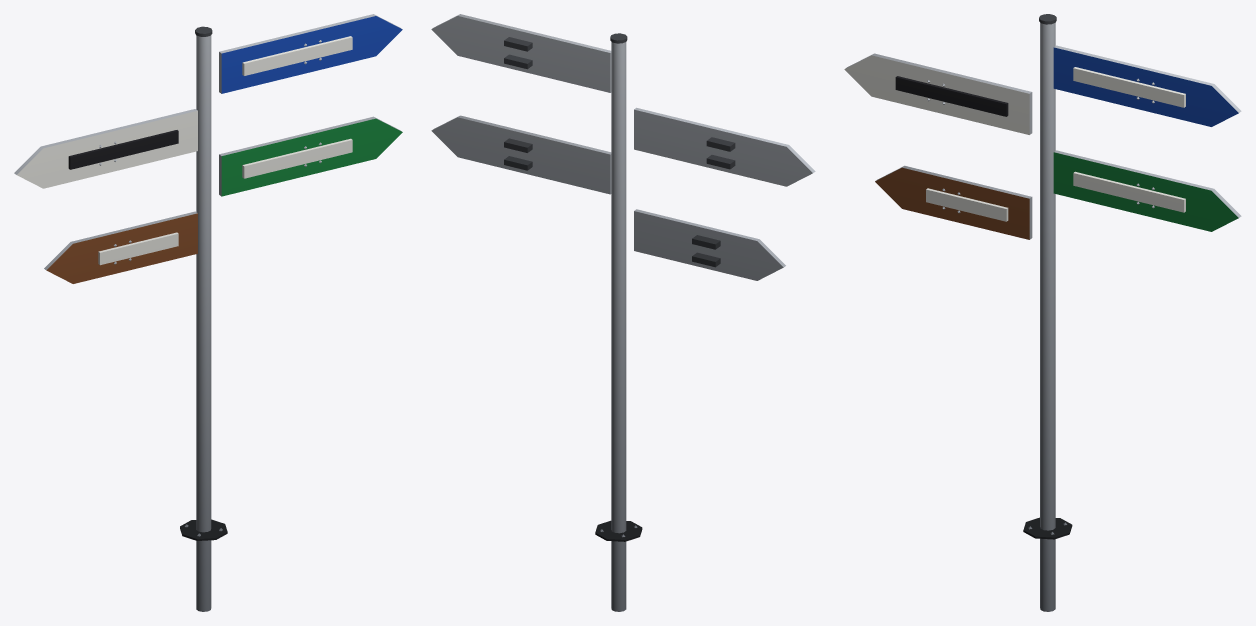
File: Sign_Direction.fbx
3 renders of one model, left to right at view 1: azimuth 30°, elevation 25°; view 2: azimuth 150°, elevation 25°; view 3: azimuth 330°, elevation 25°, orthographic. The views are drawn at different scales.
Visible parts, largest first — view 1: Sign_Direction_LOD0; view 2: Sign_Direction_LOD0; view 3: Sign_Direction_LOD0.
Boxes of the visible parts, <box> form: Sign_Direction_LOD0: <box>14,14,402,611</box>; Sign_Direction_LOD0: <box>431,14,815,611</box>; Sign_Direction_LOD0: <box>844,14,1241,611</box>.
Size of what is drawn, in the model's own units: 2.6 by 3.72 by 0.288.
Materials: 1 (1 with a texture image).
